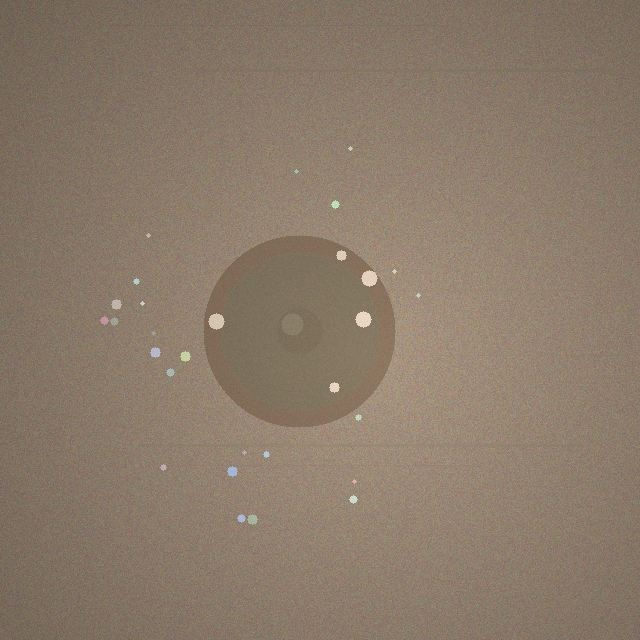overburn: (203, 235, 395, 427)
